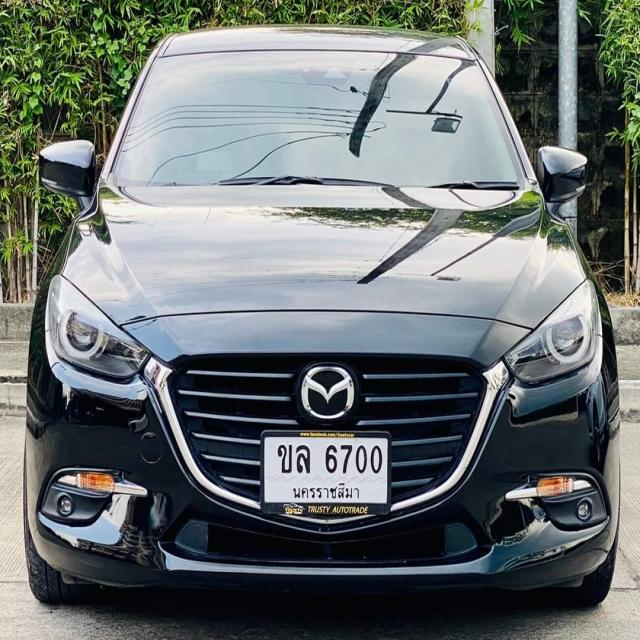license_plate: (259, 428, 393, 517)
